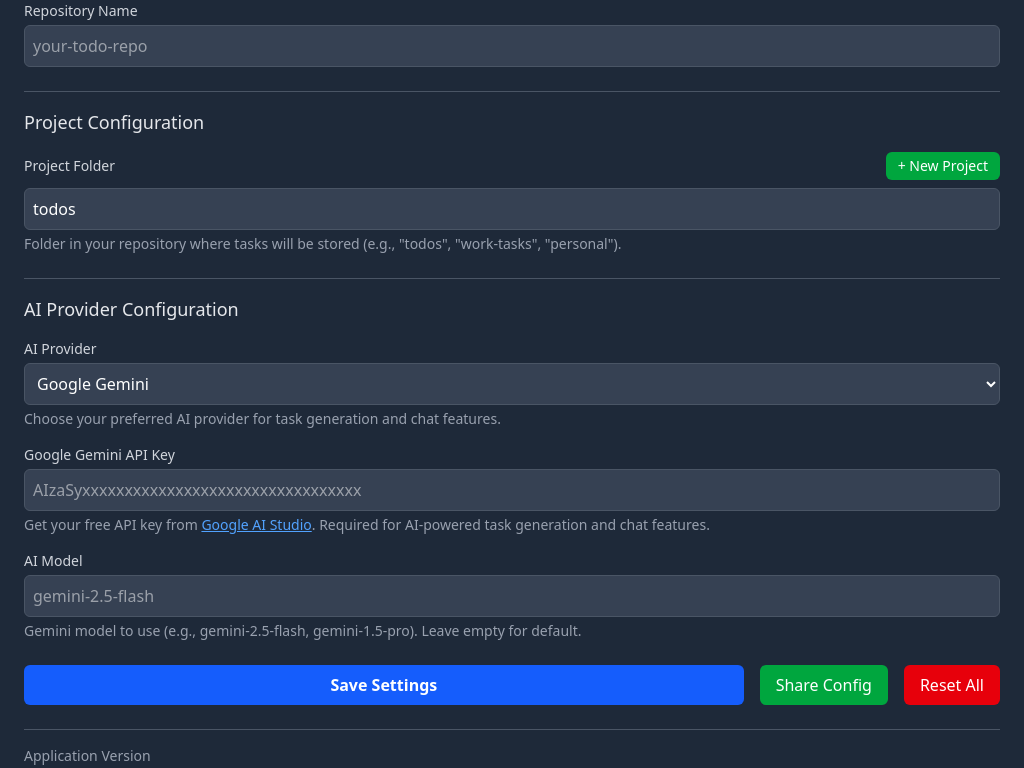
GeneralSettings - Focused Coverage Tests › Provider switching and conditional rendering › should show OpenRouter configuration when OpenRouter is selected
The image size is (1024, 768).
(page scrolled)
# Switch to OpenRouter
Select "OpenRouter" in the dropdown labelled "AI Provider" at (512, 384), box [24,363,1000,405]
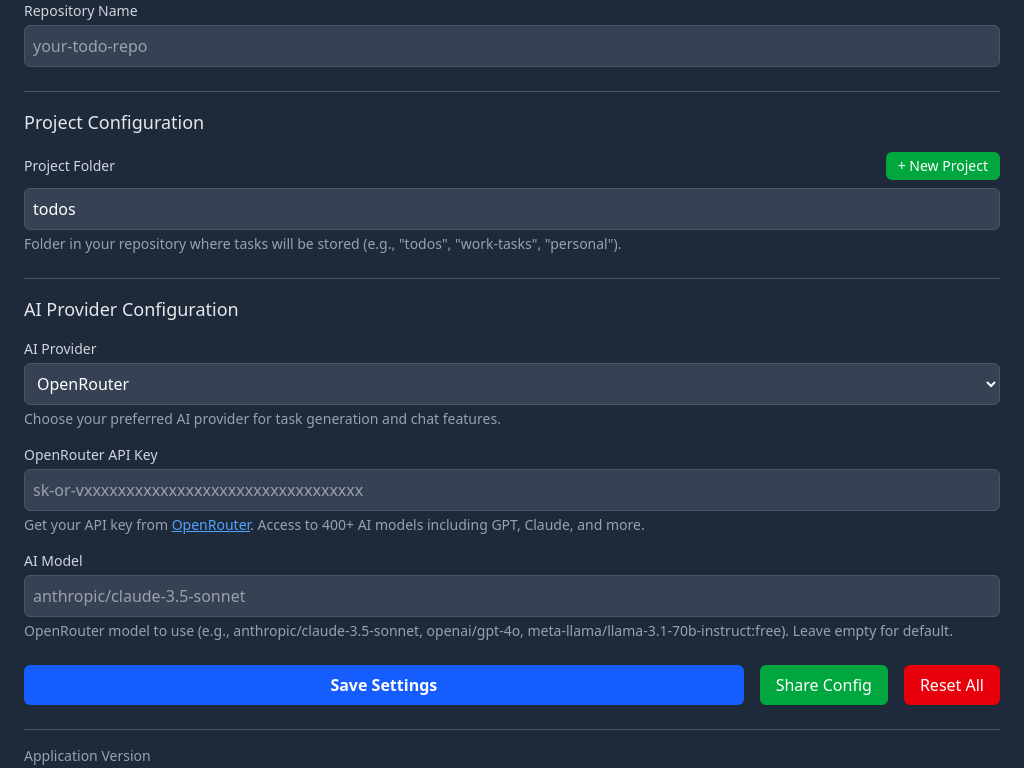
Expected: the password field labelled "OpenRouter API Key" is shown, [24,469,1000,511]
Expected: the label labelled "Google Gemini API Key" is gone
Expected: the field with placeholder "anthropic/claude-3.5-sonnet" is shown, [24,575,1000,617]
